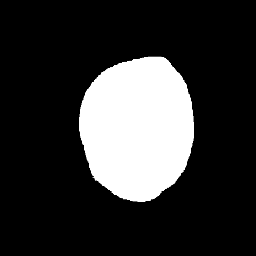mass: (75, 56, 194, 204)
